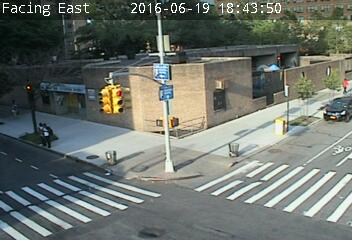neg: (196, 145, 218, 175), (51, 54, 73, 83), (211, 80, 230, 105), (132, 97, 151, 122), (149, 188, 168, 212), (104, 132, 122, 156), (269, 175, 287, 199), (154, 62, 172, 85), (110, 31, 127, 54), (106, 80, 122, 102), (227, 133, 243, 154), (261, 34, 277, 55), (101, 182, 116, 202), (50, 183, 65, 203)
pos: (33, 121, 54, 149), (337, 75, 350, 92)
